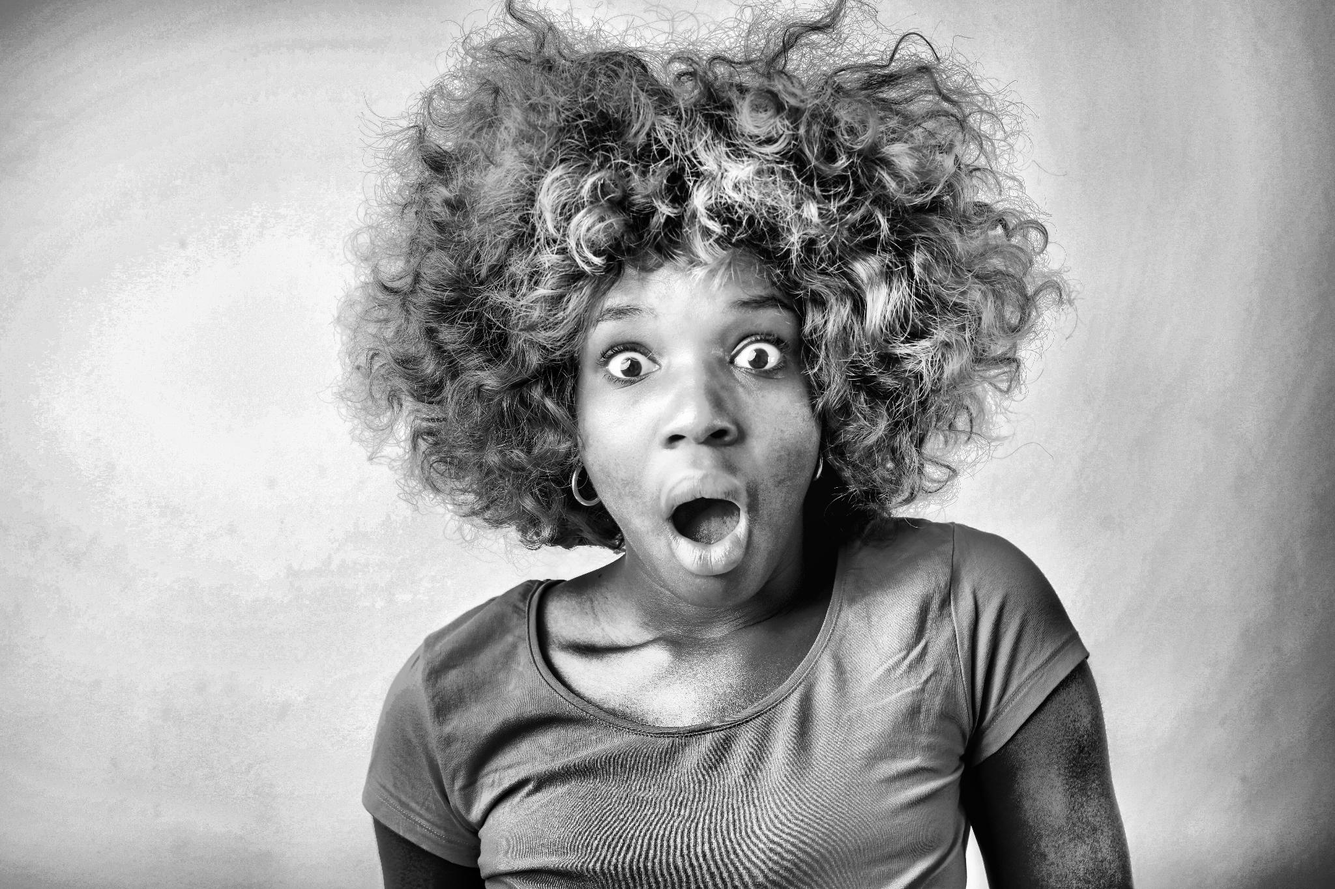surprised: (567, 234, 862, 621)
